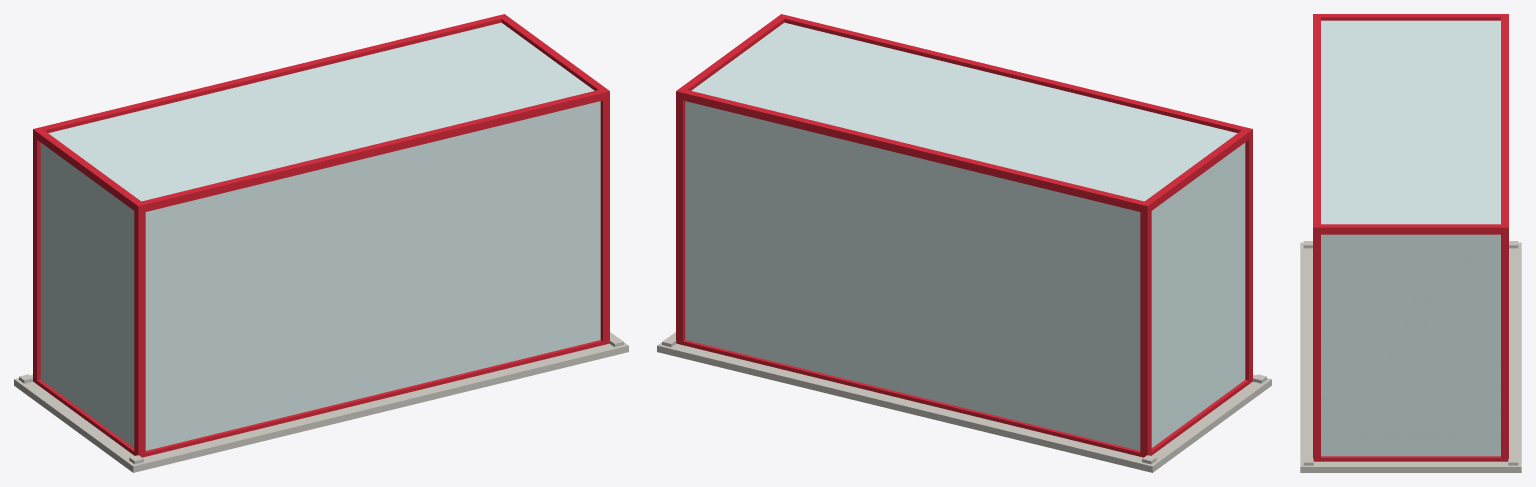
Rendered from goliat-uuruu-buulgagch.glb.
The picture shows the model from 3 angles, left to right: view 1: azimuth 30°, elevation 25°; view 2: azimuth 150°, elevation 25°; view 3: azimuth 270°, elevation 25°; orthographic projection. The views are drawn at different scales.
Bounding box in the file's own units: 0.48 × 0.2395 × 0.2.
